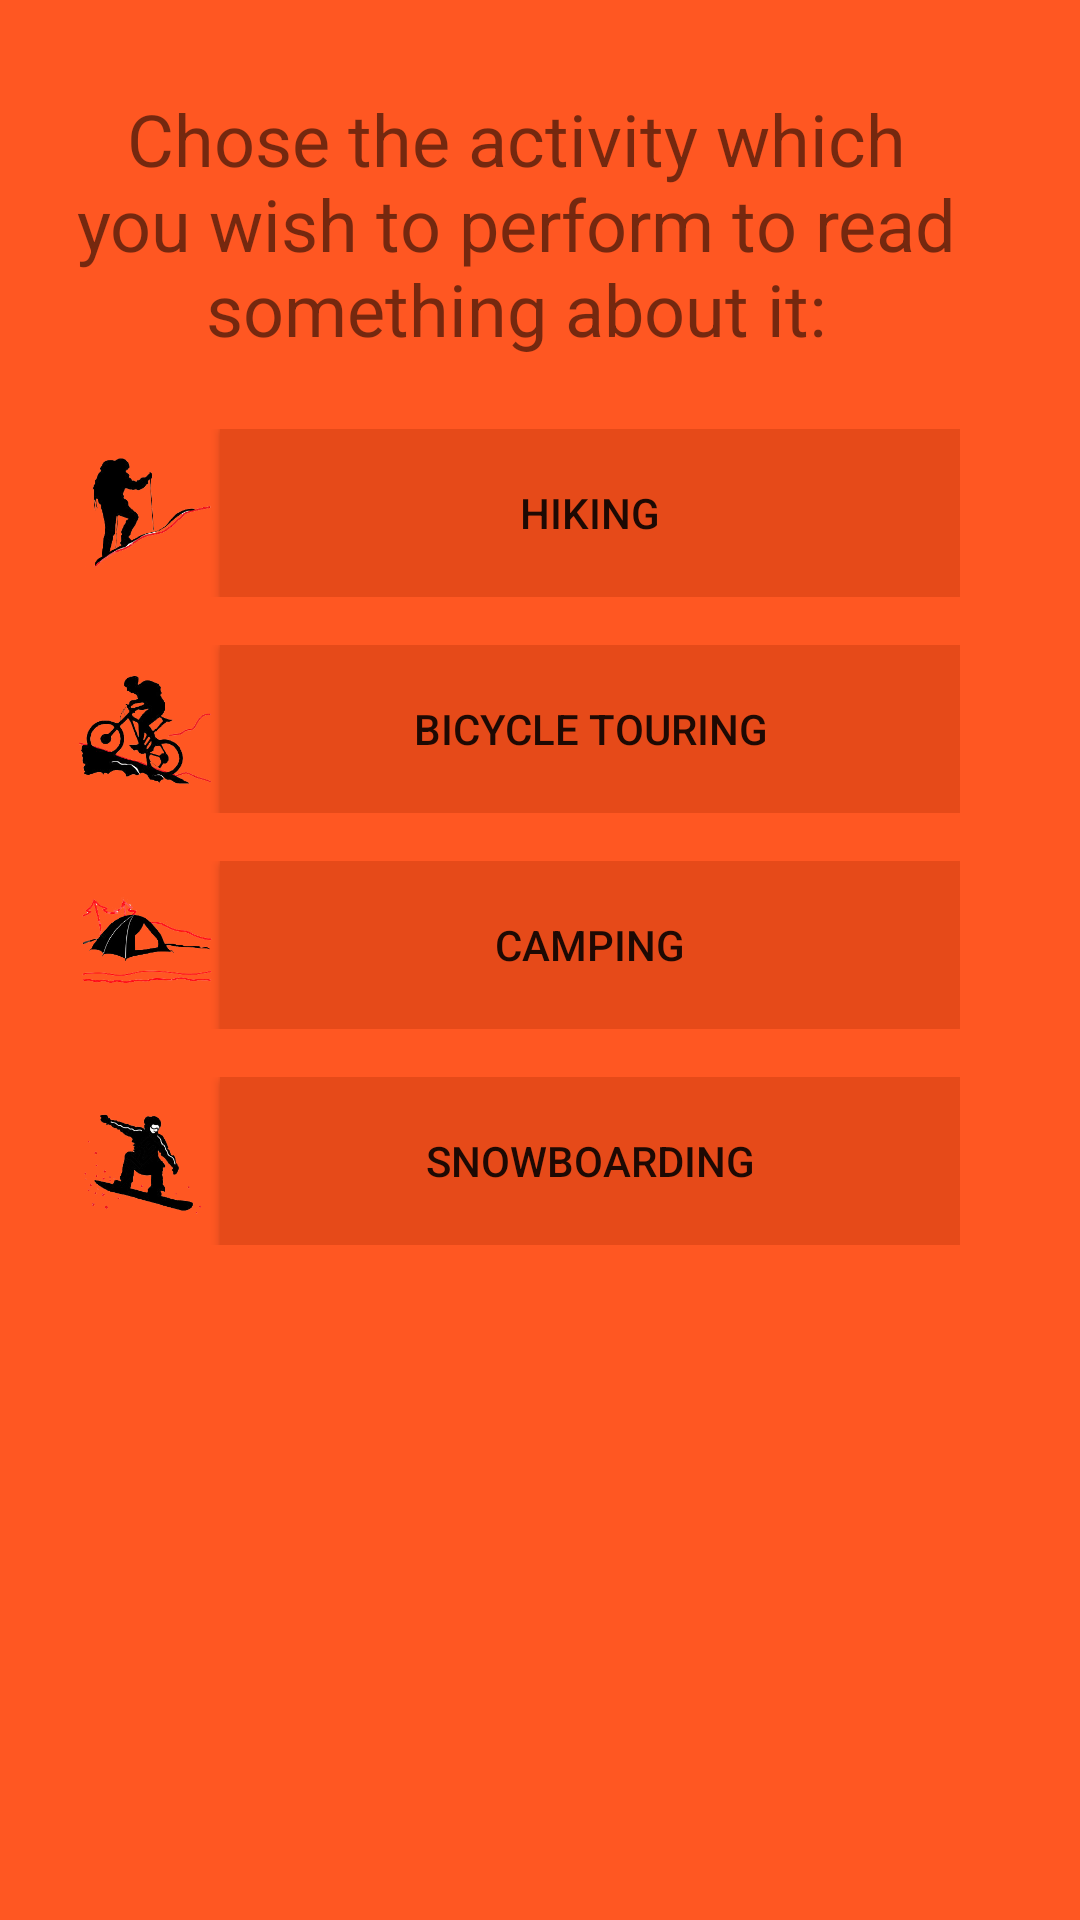

Screen size 1080px x 1920px. Icon name, then its box in pixels as (x1, y1, x2, y2):
hike: (93, 458, 211, 567)
